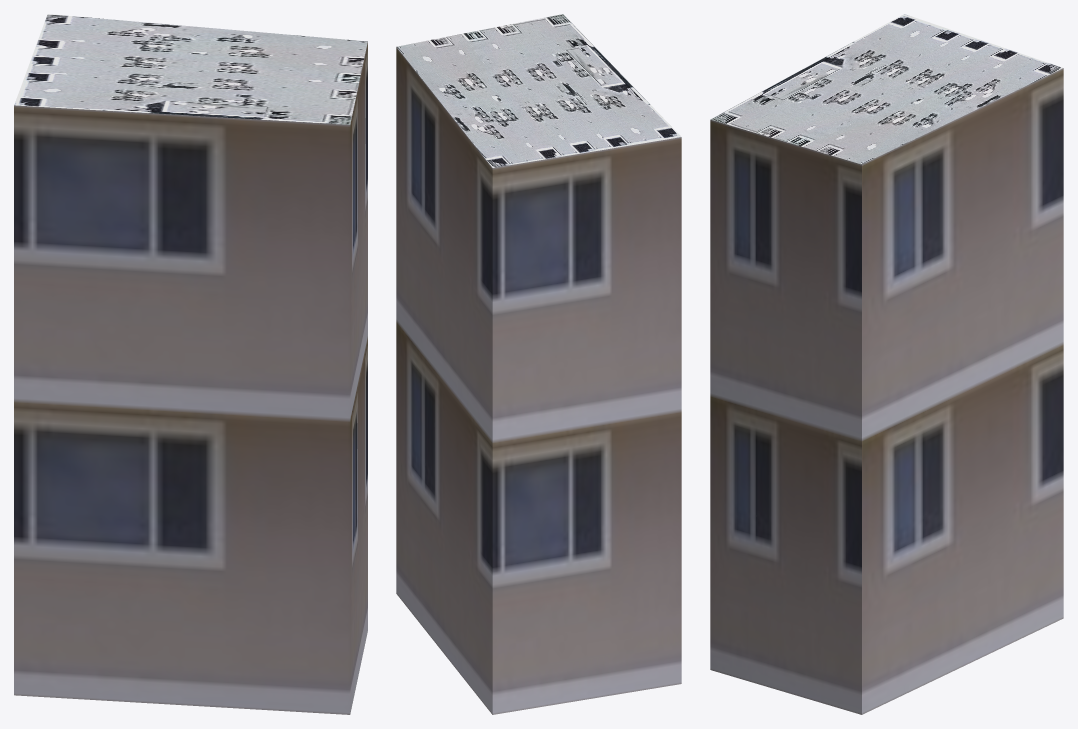
File: ResTex__1605.fbx
3 renders of one model, left to right at view 1: azimuth 30°, elevation 25°; view 2: azimuth 150°, elevation 25°; view 3: azimuth 270°, elevation 25°, orthographic. The views are drawn at different scales.
Visible parts, largest first — view 1: CityEngineMaterial_21_m, CityEngineMaterial_8_m; view 2: CityEngineMaterial_21_m, CityEngineMaterial_8_m; view 3: CityEngineMaterial_21_m, CityEngineMaterial_8_m.
Boxes of the visible parts, left/top/right/bottom form: CityEngineMaterial_21_m: left=14, top=41, right=367, bottom=714; CityEngineMaterial_8_m: left=14, top=14, right=367, bottom=124; CityEngineMaterial_21_m: left=396, top=47, right=681, bottom=714; CityEngineMaterial_8_m: left=396, top=14, right=680, bottom=167; CityEngineMaterial_21_m: left=710, top=68, right=1063, bottom=714; CityEngineMaterial_8_m: left=711, top=14, right=1062, bottom=164.
Bounding box in the file's own units: 3.52 × 6 × 3.49.
Materials: 2 (2 with a texture image).
